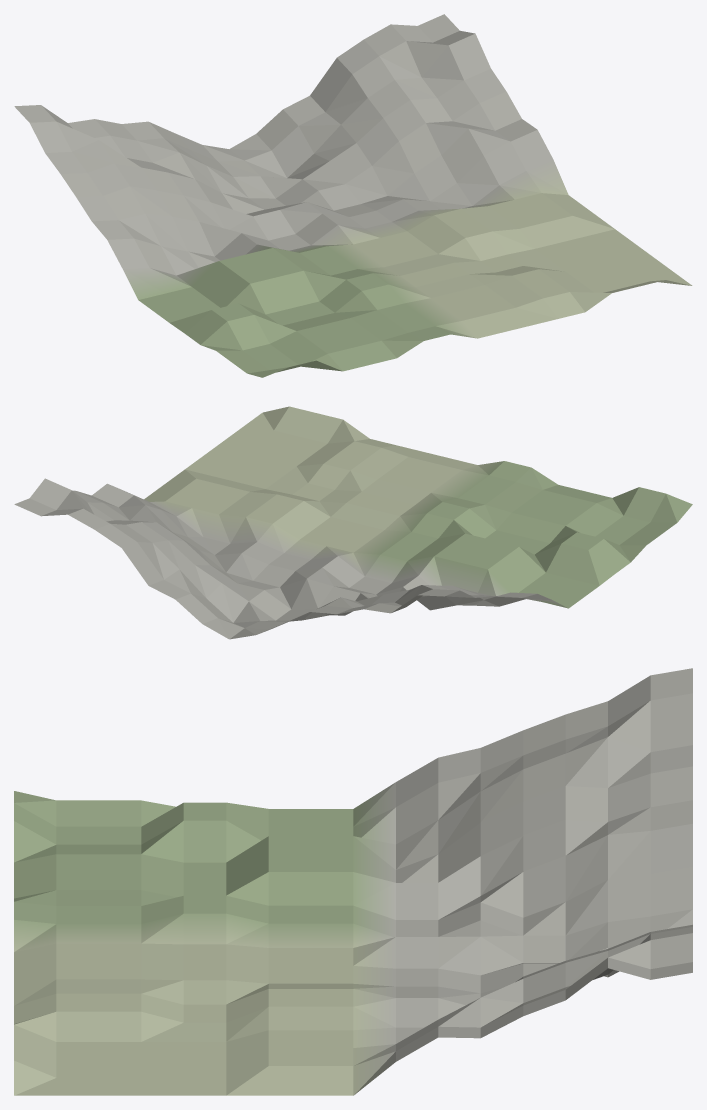
The picture shows the model from 3 angles, top to bottom: view 1: azimuth 30°, elevation 25°; view 2: azimuth 150°, elevation 25°; view 3: azimuth 270°, elevation 25°; orthographic projection. The views are drawn at different scales.
Bounding box in the file's own units: 32 × 7.87 × 32.
